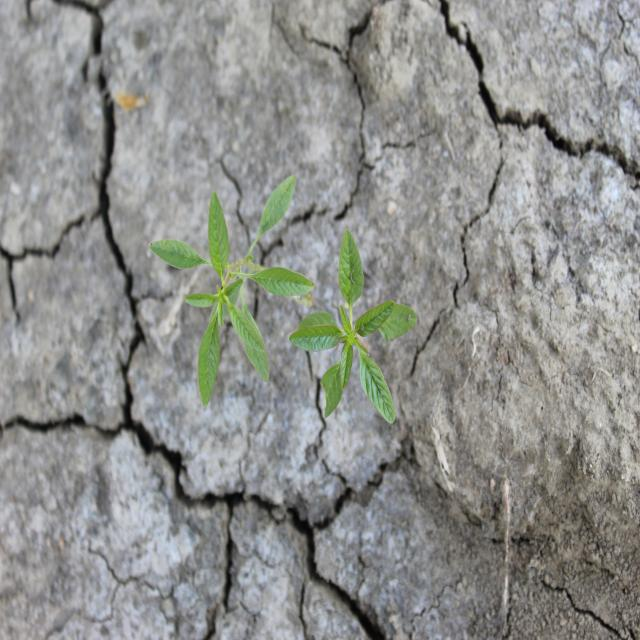Waterhemp: (147, 173, 316, 408), (288, 229, 418, 426)
